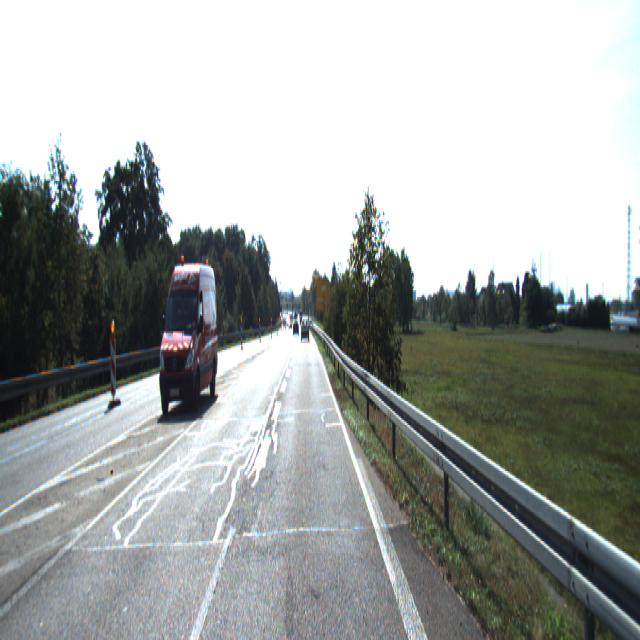Car: (156, 263, 217, 432), (302, 319, 310, 341)
